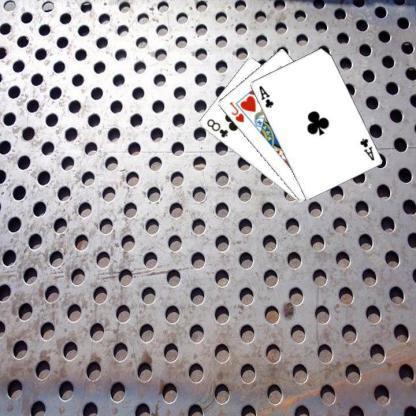8C: (204, 116, 229, 139)
AC: (357, 136, 376, 162), (256, 82, 274, 108)
JH: (226, 99, 245, 124)
